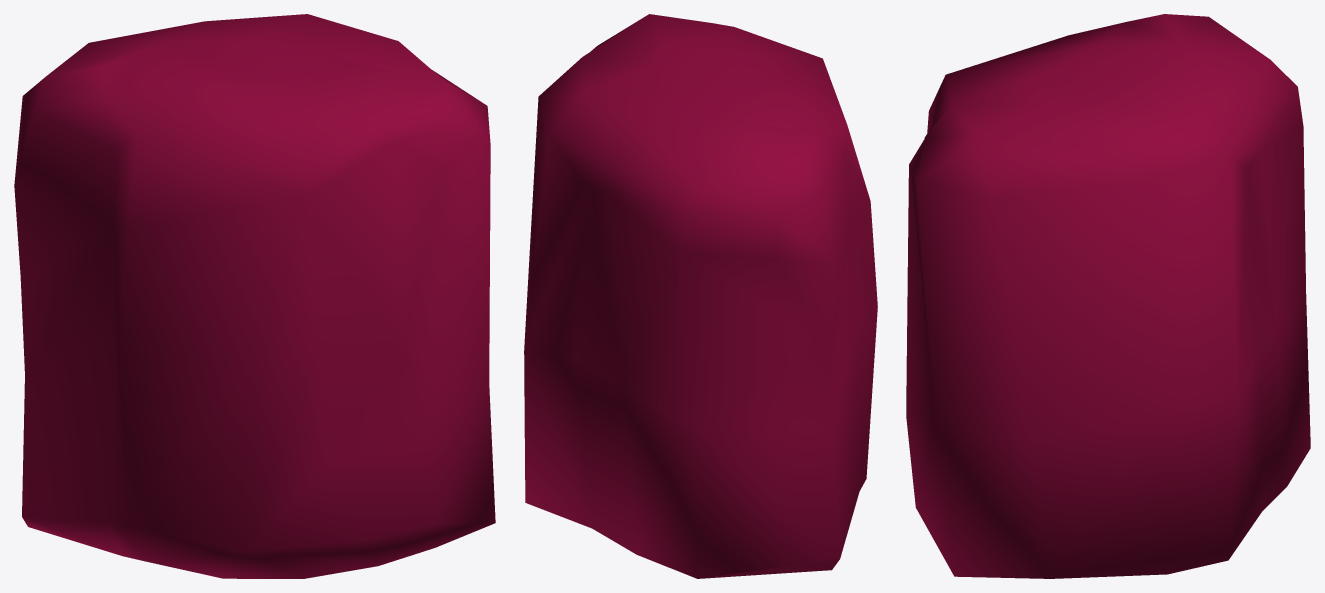
The model's file is stone_02.FBX.
3 views of the same model, side by side, from view 1: azimuth 30°, elevation 25°; view 2: azimuth 150°, elevation 25°; view 3: azimuth 270°, elevation 25° (orthographic). The views are drawn at different scales.
Visible parts, largest first — view 1: stone_02; view 2: stone_02; view 3: stone_02.
Part boxes in pixels (x1,y1,x2,y2): stone_02: (14,14,495,578); stone_02: (524,14,877,578); stone_02: (906,14,1310,578).
Bounding box in the file's own units: 66.41 × 76.74 × 62.84.
